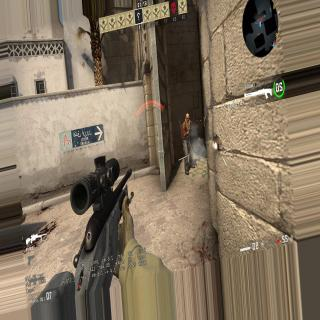T-Body: (182, 113, 191, 168)
T-Head: (185, 113, 189, 121)
